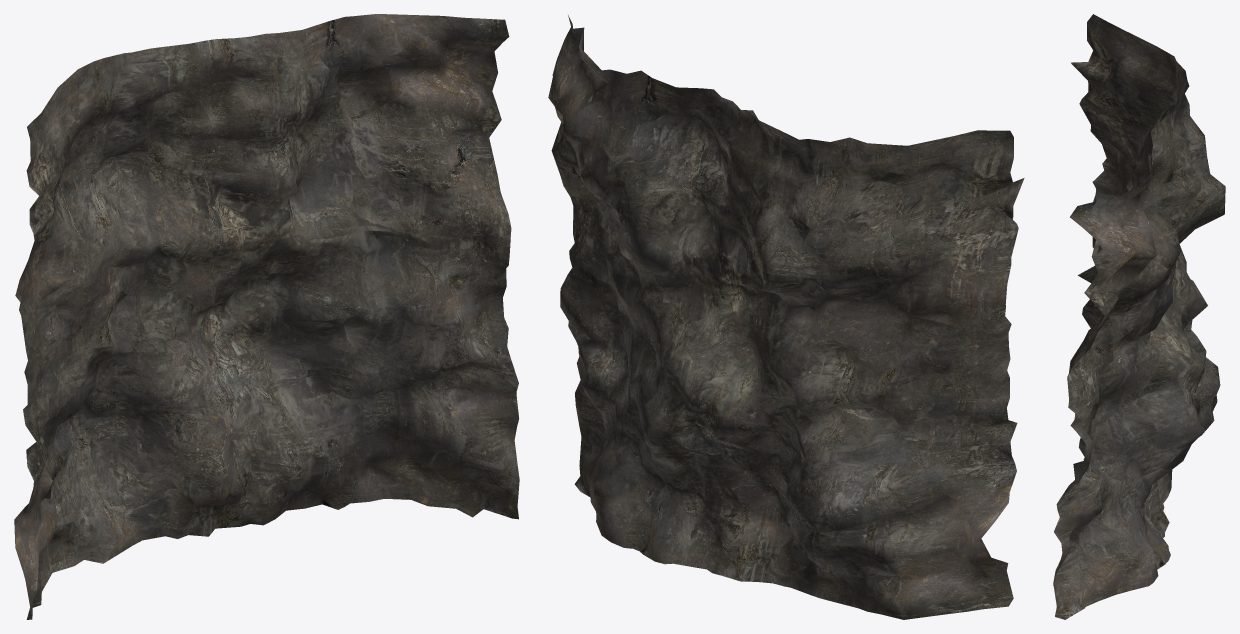
The model's file is Wall_6.fbx.
The picture shows the model from 3 angles, left to right: view 1: azimuth 30°, elevation 25°; view 2: azimuth 150°, elevation 25°; view 3: azimuth 270°, elevation 25°; orthographic projection. The views are drawn at different scales.
Visible parts, largest first — view 1: Wall_6; view 2: Wall_6; view 3: Wall_6.
Part boxes in pixels (x1,y1,x2,y2): Wall_6: [14, 14, 519, 619]; Wall_6: [548, 15, 1024, 619]; Wall_6: [1053, 14, 1225, 619].
Bounding box in the file's own units: 404 × 404 × 151.
